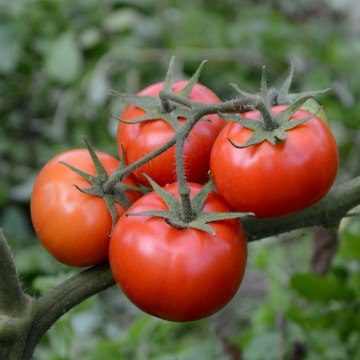stems: (102, 136, 175, 193), (175, 141, 194, 223), (233, 96, 273, 130), (158, 89, 200, 111)
tomato: (109, 180, 250, 323), (209, 104, 340, 220), (29, 148, 145, 265), (116, 78, 229, 189)
